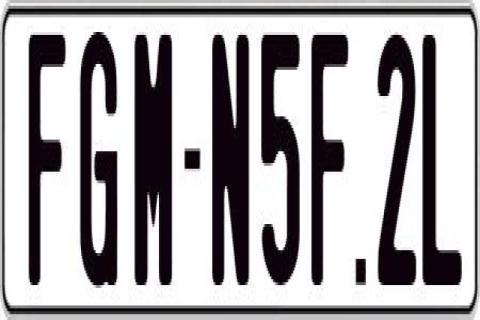0: (262, 29, 304, 297), (376, 26, 419, 276)
F: (25, 35, 63, 297), (310, 29, 347, 285)
G: (76, 27, 118, 286)
L: (419, 32, 463, 288)
M: (133, 26, 171, 288)
N: (211, 26, 249, 282)
